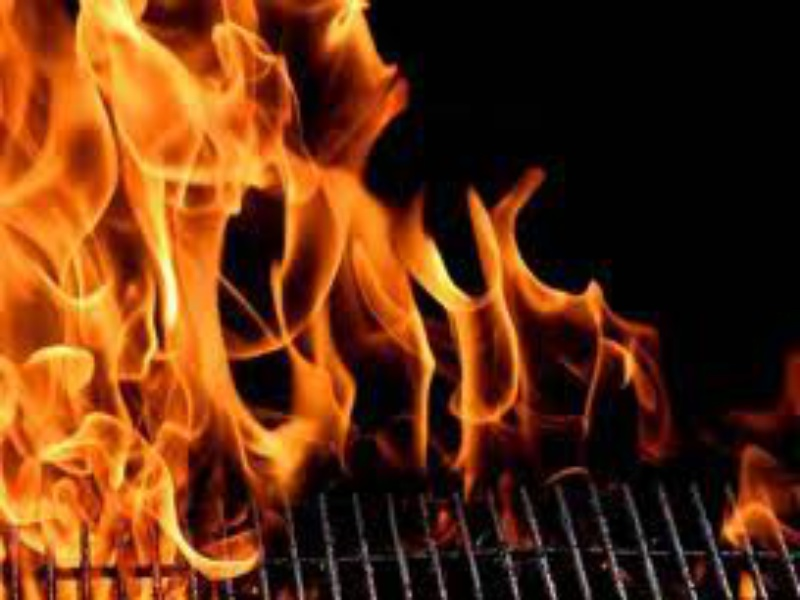fire: (1, 1, 671, 600), (717, 356, 800, 549), (737, 569, 756, 600)
